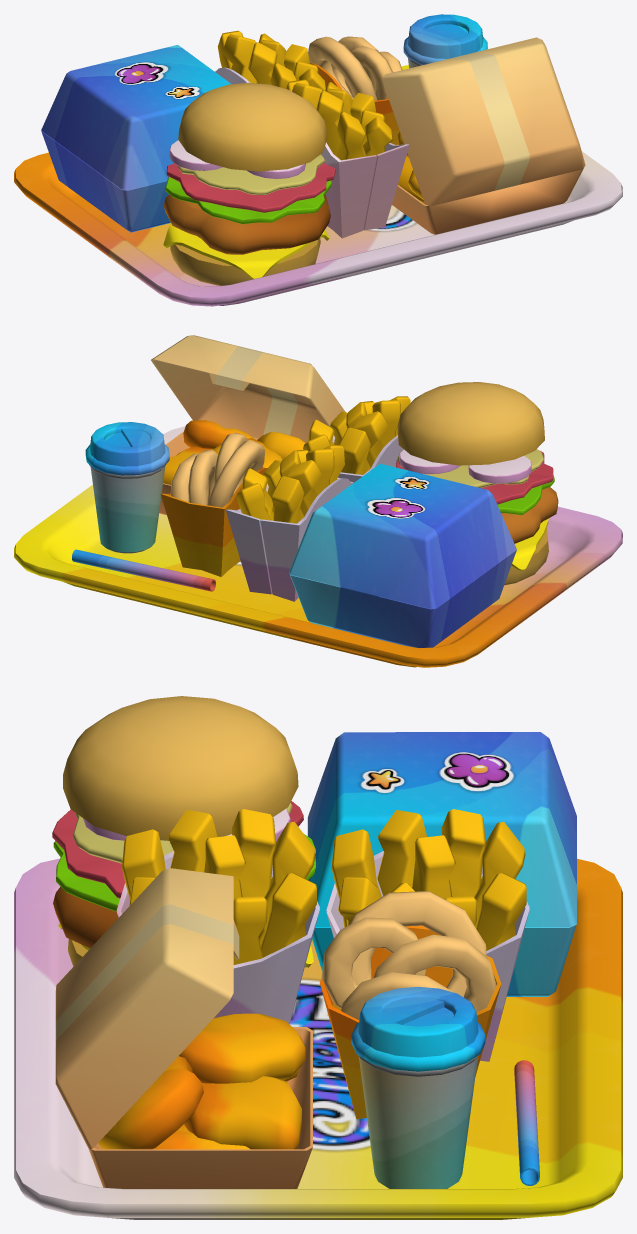
3 views of the same model, one above another, from view 1: azimuth 30°, elevation 25°; view 2: azimuth 150°, elevation 25°; view 3: azimuth 270°, elevation 25° (orthographic). The views are drawn at different scales.
Visible parts, largest first — view 1: Cube_L5_5, Cube_L8, Cube_L6_5, Cube_L3_7, Cube_L5_4, Cube_L3_1, Cube_L6_4, Cube_L2_1, Cube_L7_2, Cube_L3_2, Cube_L3_3, Cube_L3_4 (+18 smaller); view 2: Cube_L8, Cube_L6_5, Cube_L5_5, Cube_L3_7, Cube_L6_4, Cube_L7_1, Cube_L4_1, Cube_L7_2, Cube_L1_1, Cube_L1_9, Cube_L7, Cube_L4 (+24 smaller); view 3: Cube_L8, Cube_L5_5, Cube_L6_5, Cube_L3_7, Cube_L7_1, Cube_L5_4, Cube_L7_2, Cube_L5_2, Cube_L5_6, Cube_L5_7, Cube_L2_9, Cube_L4 (+27 smaller).
Boxes of the visible parts, x1=… form: Cube_L5_5: x1=382, y1=37, x2=585, y2=206; Cube_L8: x1=14, y1=65, x2=622, y2=306; Cube_L6_5: x1=41, y1=45, x2=231, y2=189; Cube_L3_7: x1=178, y1=82, x2=326, y2=171; Cube_L5_4: x1=392, y1=144, x2=583, y2=234; Cube_L3_1: x1=163, y1=194, x2=330, y2=254; Cube_L6_4: x1=41, y1=131, x2=170, y2=232; Cube_L2_1: x1=321, y1=142, x2=377, y2=238; Cube_L7_2: x1=403, y1=14, x2=487, y2=64; Cube_L3_2: x1=166, y1=162, x2=335, y2=212; Cube_L3_3: x1=170, y1=238, x2=320, y2=285; Cube_L3_4: x1=163, y1=223, x2=329, y2=279; Cube_L8: x1=14, y1=426, x2=622, y2=667; Cube_L6_5: x1=289, y1=463, x2=516, y2=608; Cube_L5_5: x1=151, y1=335, x2=345, y2=442; Cube_L3_7: x1=397, y1=382, x2=544, y2=465; Cube_L6_4: x1=289, y1=549, x2=516, y2=647; Cube_L7_1: x1=89, y1=464, x2=165, y2=553; Cube_L4_1: x1=160, y1=467, x2=267, y2=576; Cube_L7_2: x1=85, y1=422, x2=169, y2=475; Cube_L1_1: x1=260, y1=477, x2=353, y2=601; Cube_L1_9: x1=226, y1=484, x2=272, y2=594; Cube_L7: x1=72, y1=549, x2=215, y2=591; Cube_L4: x1=207, y1=440, x2=265, y2=507; Cube_L8: x1=14, y1=858, x2=622, y2=1219; Cube_L5_5: x1=55, y1=868, x2=239, y2=1149; Cube_L6_5: x1=308, y1=732, x2=576, y2=926; Cube_L3_7: x1=63, y1=696, x2=298, y2=840; Cube_L7_1: x1=358, y1=1056, x2=477, y2=1188; Cube_L5_4: x1=89, y1=1027, x2=312, y2=1188; Cube_L7_2: x1=351, y1=986, x2=485, y2=1071; Cube_L5_2: x1=179, y1=1013, x2=305, y2=1083; Cube_L5_6: x1=184, y1=1076, x2=301, y2=1149; Cube_L5_7: x1=98, y1=1056, x2=203, y2=1149; Cube_L2_9: x1=117, y1=908, x2=319, y2=1023; Cube_L4: x1=349, y1=891, x2=486, y2=997.
Size of the model in its own units: 6.3 by 2.16 by 4.59.
